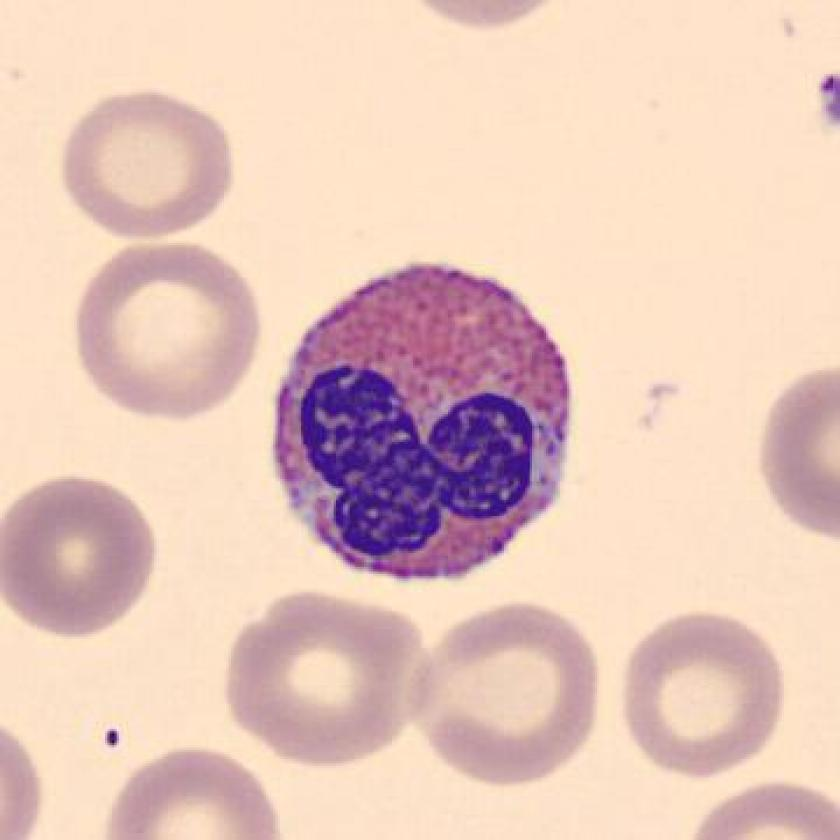eosinophil: (251, 249, 589, 598)
